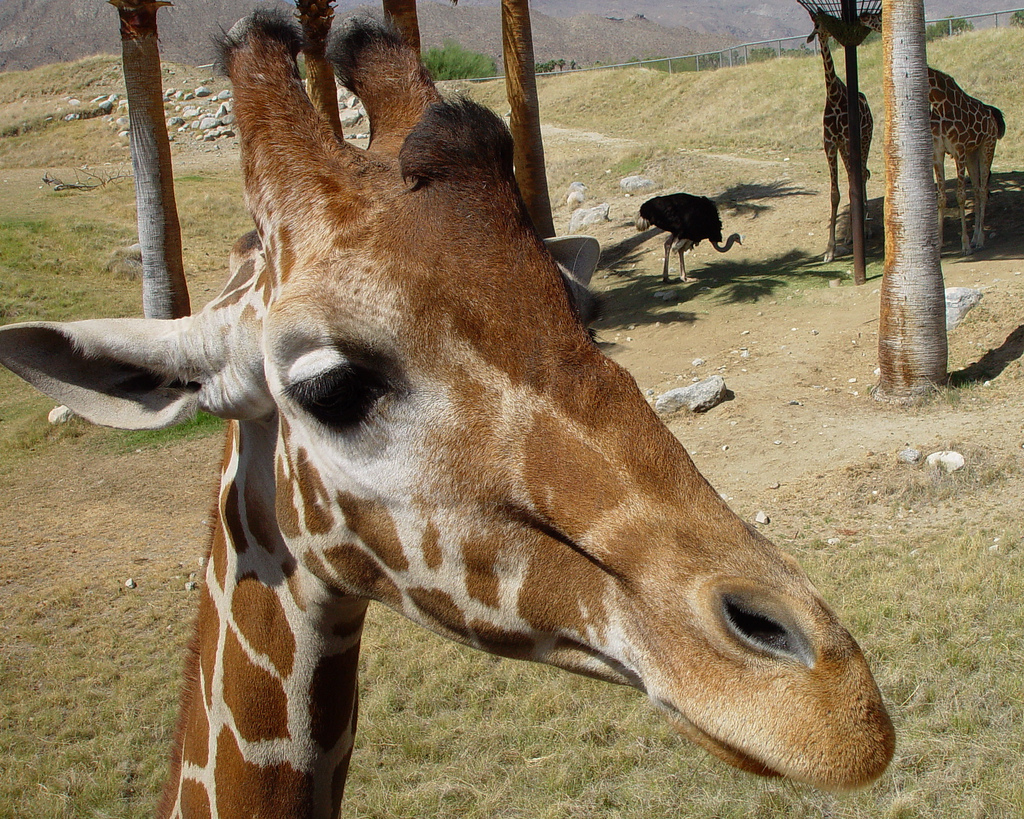giraffe: (77, 33, 891, 786)
